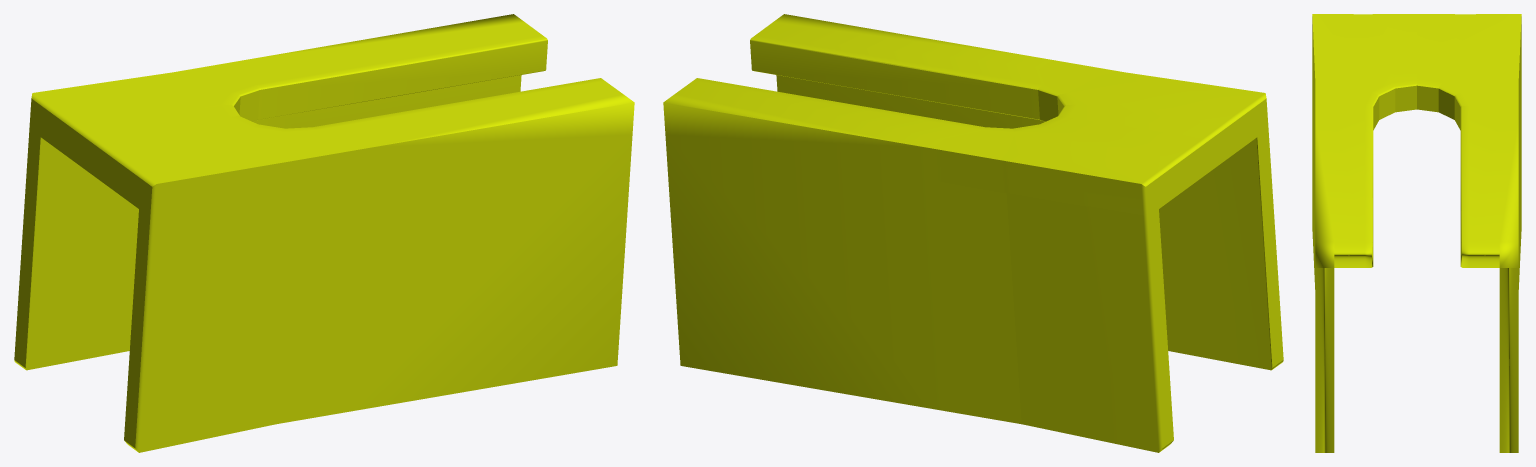
Rendered from Plunger_Cover.fbx.
3 views of the same model, side by side, from view 1: azimuth 30°, elevation 25°; view 2: azimuth 150°, elevation 25°; view 3: azimuth 270°, elevation 25° (orthographic). The views are drawn at different scales.
Visible parts, largest first — view 1: Plunger_Cover; view 2: Plunger_Cover; view 3: Plunger_Cover.
Boxes of the visible parts, left/top/right/bottom form: Plunger_Cover: left=14, top=14, right=634, bottom=452; Plunger_Cover: left=663, top=14, right=1283, bottom=452; Plunger_Cover: left=1312, top=14, right=1521, bottom=452.
Bounding box in the file's own units: 8.16 × 4.62 × 3.52.
